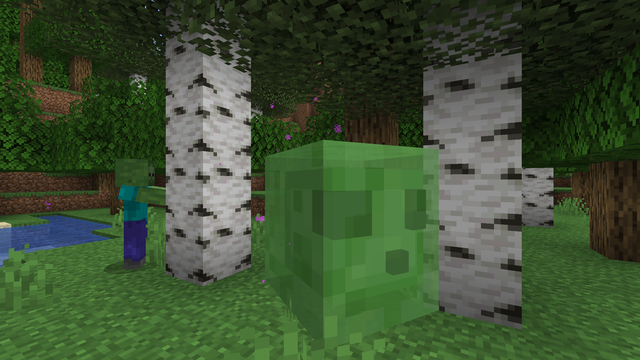slimes: (246, 129, 425, 355)
zombies: (110, 161, 161, 272)
